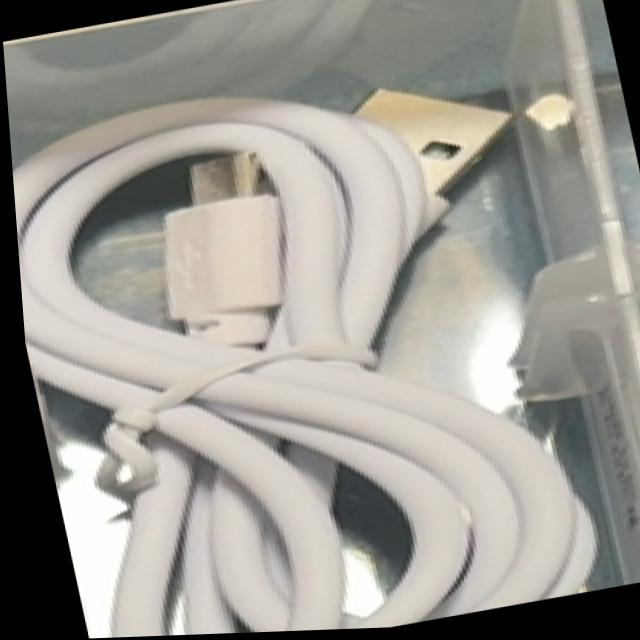USB: (4, 27, 640, 640)
